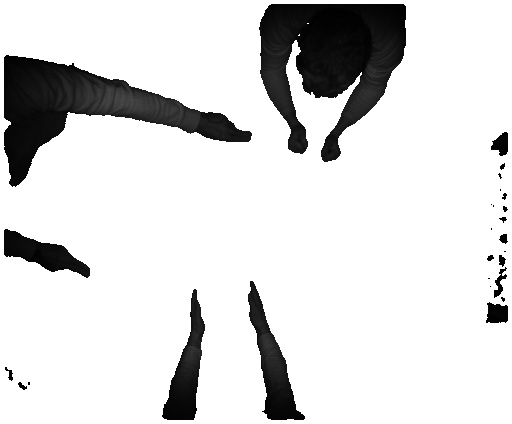fist: (288, 128, 311, 159), (320, 139, 343, 167)
hand: (39, 243, 95, 279), (200, 112, 255, 143)
spine: (248, 280, 279, 333), (184, 288, 207, 342)
